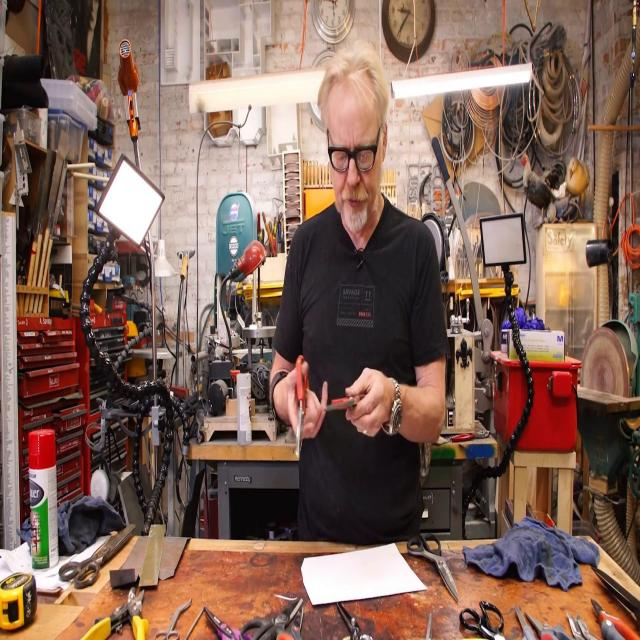scissor: (59, 524, 135, 590), (407, 534, 459, 603), (240, 598, 303, 640), (592, 568, 640, 614), (591, 599, 640, 640), (460, 601, 504, 640), (204, 607, 252, 640), (526, 610, 572, 640), (337, 599, 370, 640), (296, 356, 309, 458), (278, 606, 304, 640), (514, 604, 536, 640)
